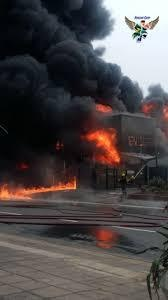fire: (84, 122, 120, 164), (0, 178, 78, 196)
